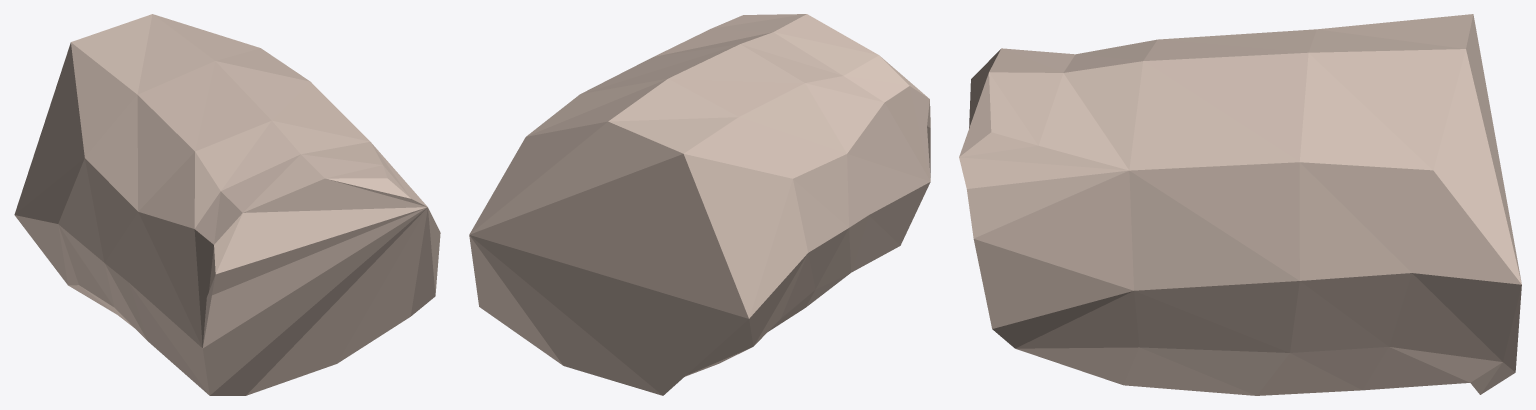
Rendered from RMiddle1stPhalange.dae.
3 renders of one model, left to right at view 1: azimuth 30°, elevation 25°; view 2: azimuth 150°, elevation 25°; view 3: azimuth 270°, elevation 25°, orthographic. The views are drawn at different scales.
Visible parts, largest first — view 1: ShapeIndexedFaceSet; view 2: ShapeIndexedFaceSet; view 3: ShapeIndexedFaceSet.
Boxes of the visible parts, x1=… form: ShapeIndexedFaceSet: x1=14, y1=14, x2=440, y2=395; ShapeIndexedFaceSet: x1=469, y1=14, x2=930, y2=395; ShapeIndexedFaceSet: x1=959, y1=14, x2=1521, y2=395.
Size of the model in its own units: 0.0211 by 0.0303 by 0.0203.
